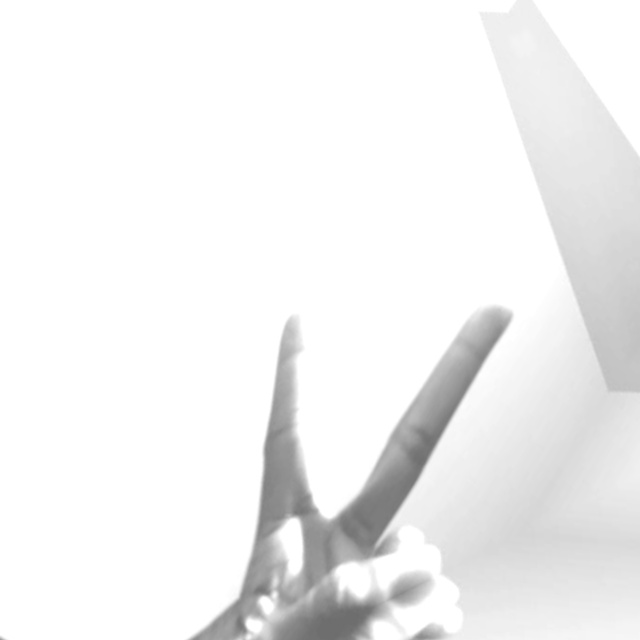Scissors: (0, 365, 156, 640)
